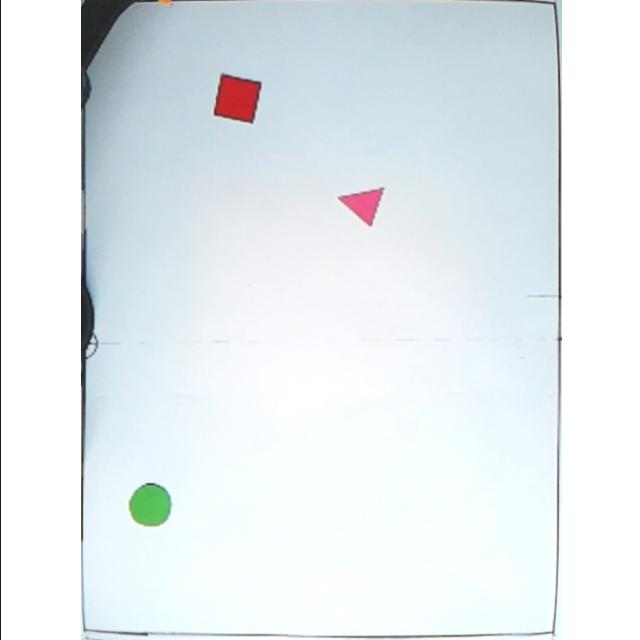greenCircle: (126, 482, 172, 528)
pinkTriangle: (334, 184, 386, 228)
redSquare: (210, 70, 262, 126)
